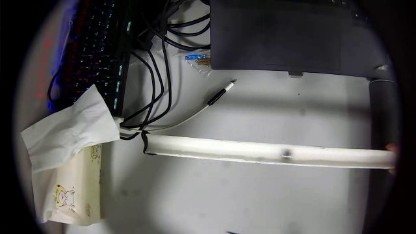gangzhu: (279, 147, 293, 160)
